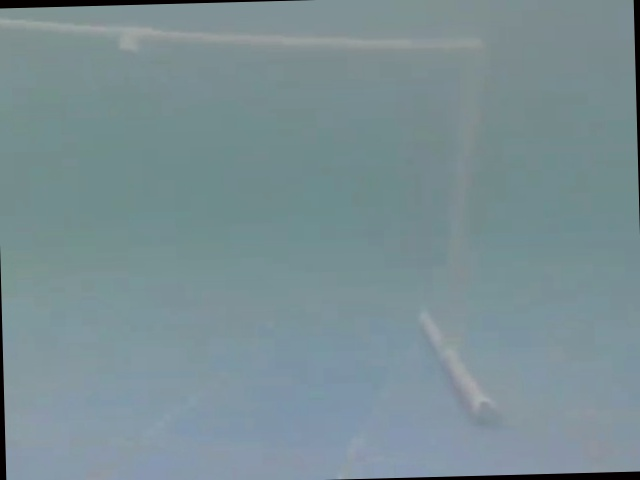gate: (1, 5, 526, 436)
